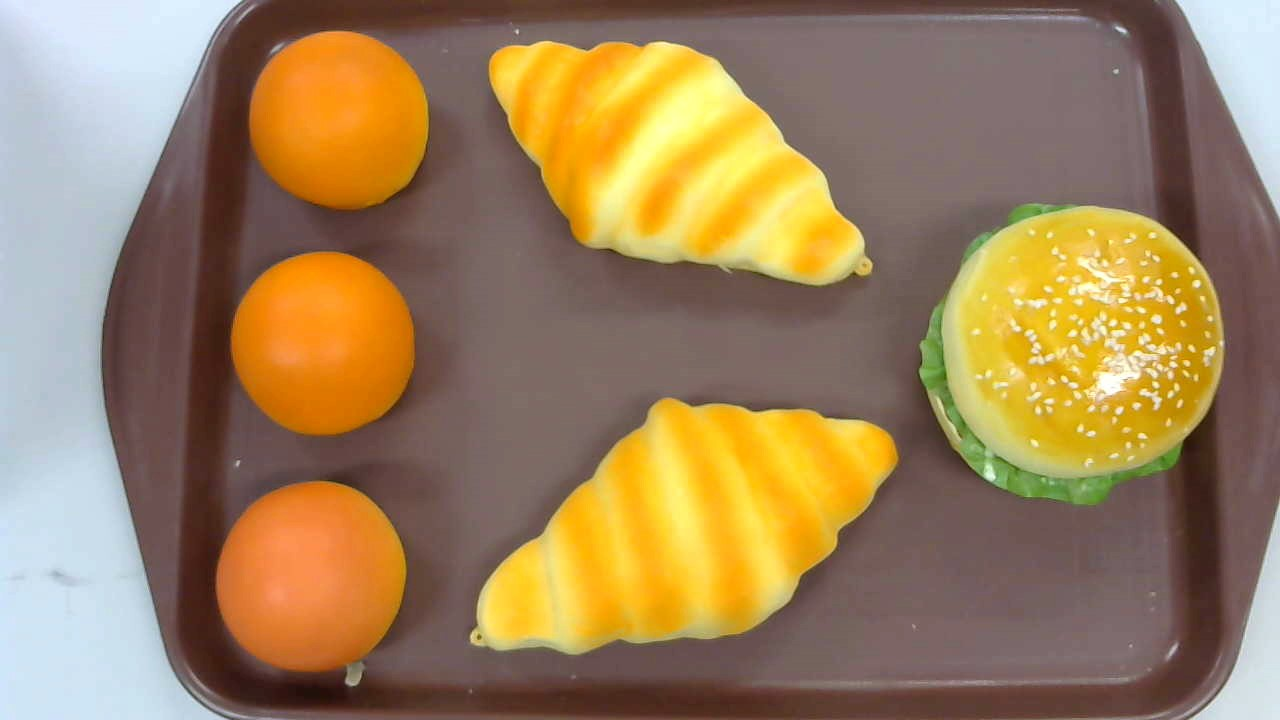bun: (216, 479, 406, 672), (231, 252, 415, 437), (247, 30, 427, 209)
croissant: (470, 395, 899, 658), (487, 38, 875, 286)
hamburger: (916, 203, 1224, 505)
